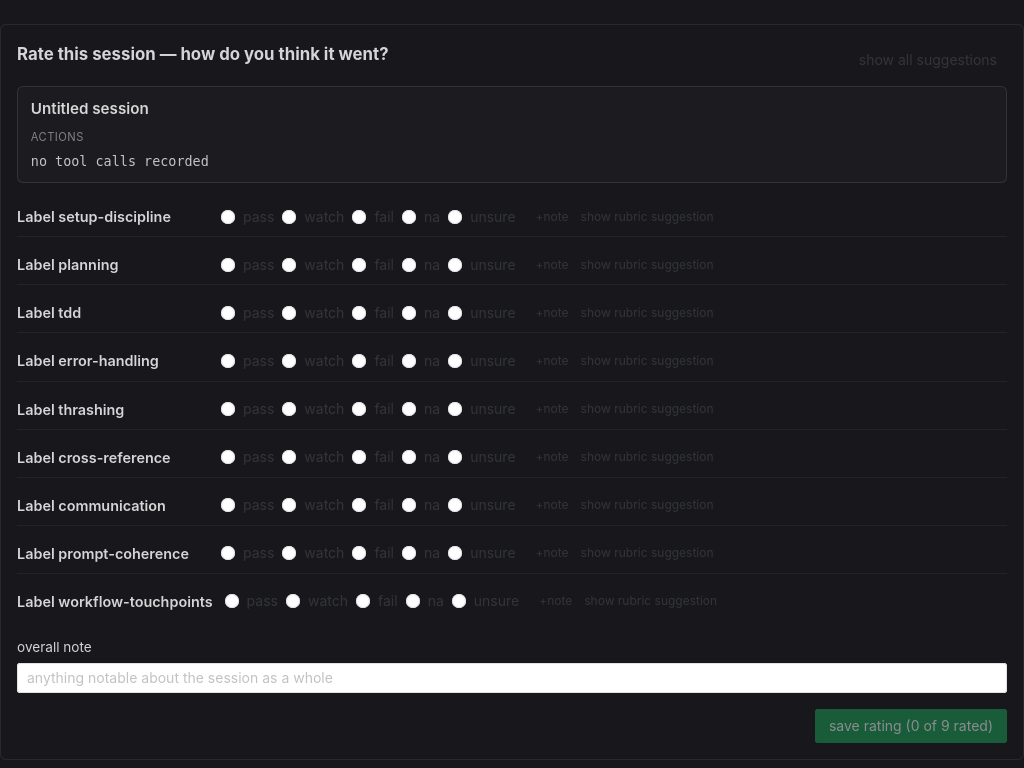
Scenario: RatingSurvey — anchoring toggles › the "show all suggestions" bulk toggle reveals every row's suggestion
Click the button with test id "survey-show-all" at (928,60), box left=849, top=46, right=1007, bottom=74
(page scrolled)
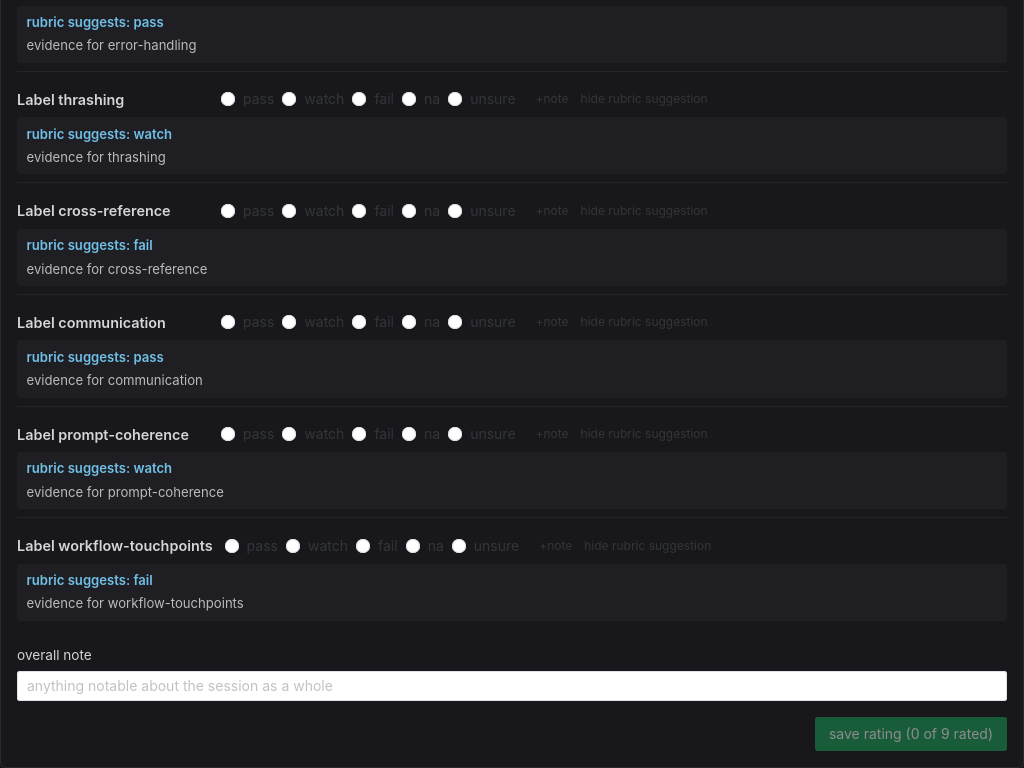
Result: the number of elements with class "suggestion" is 9
